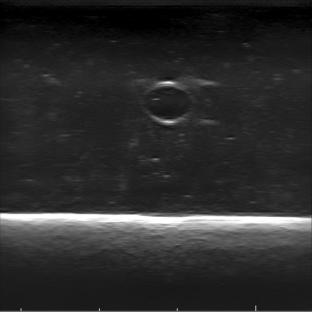vessel: (142, 79, 194, 125)
